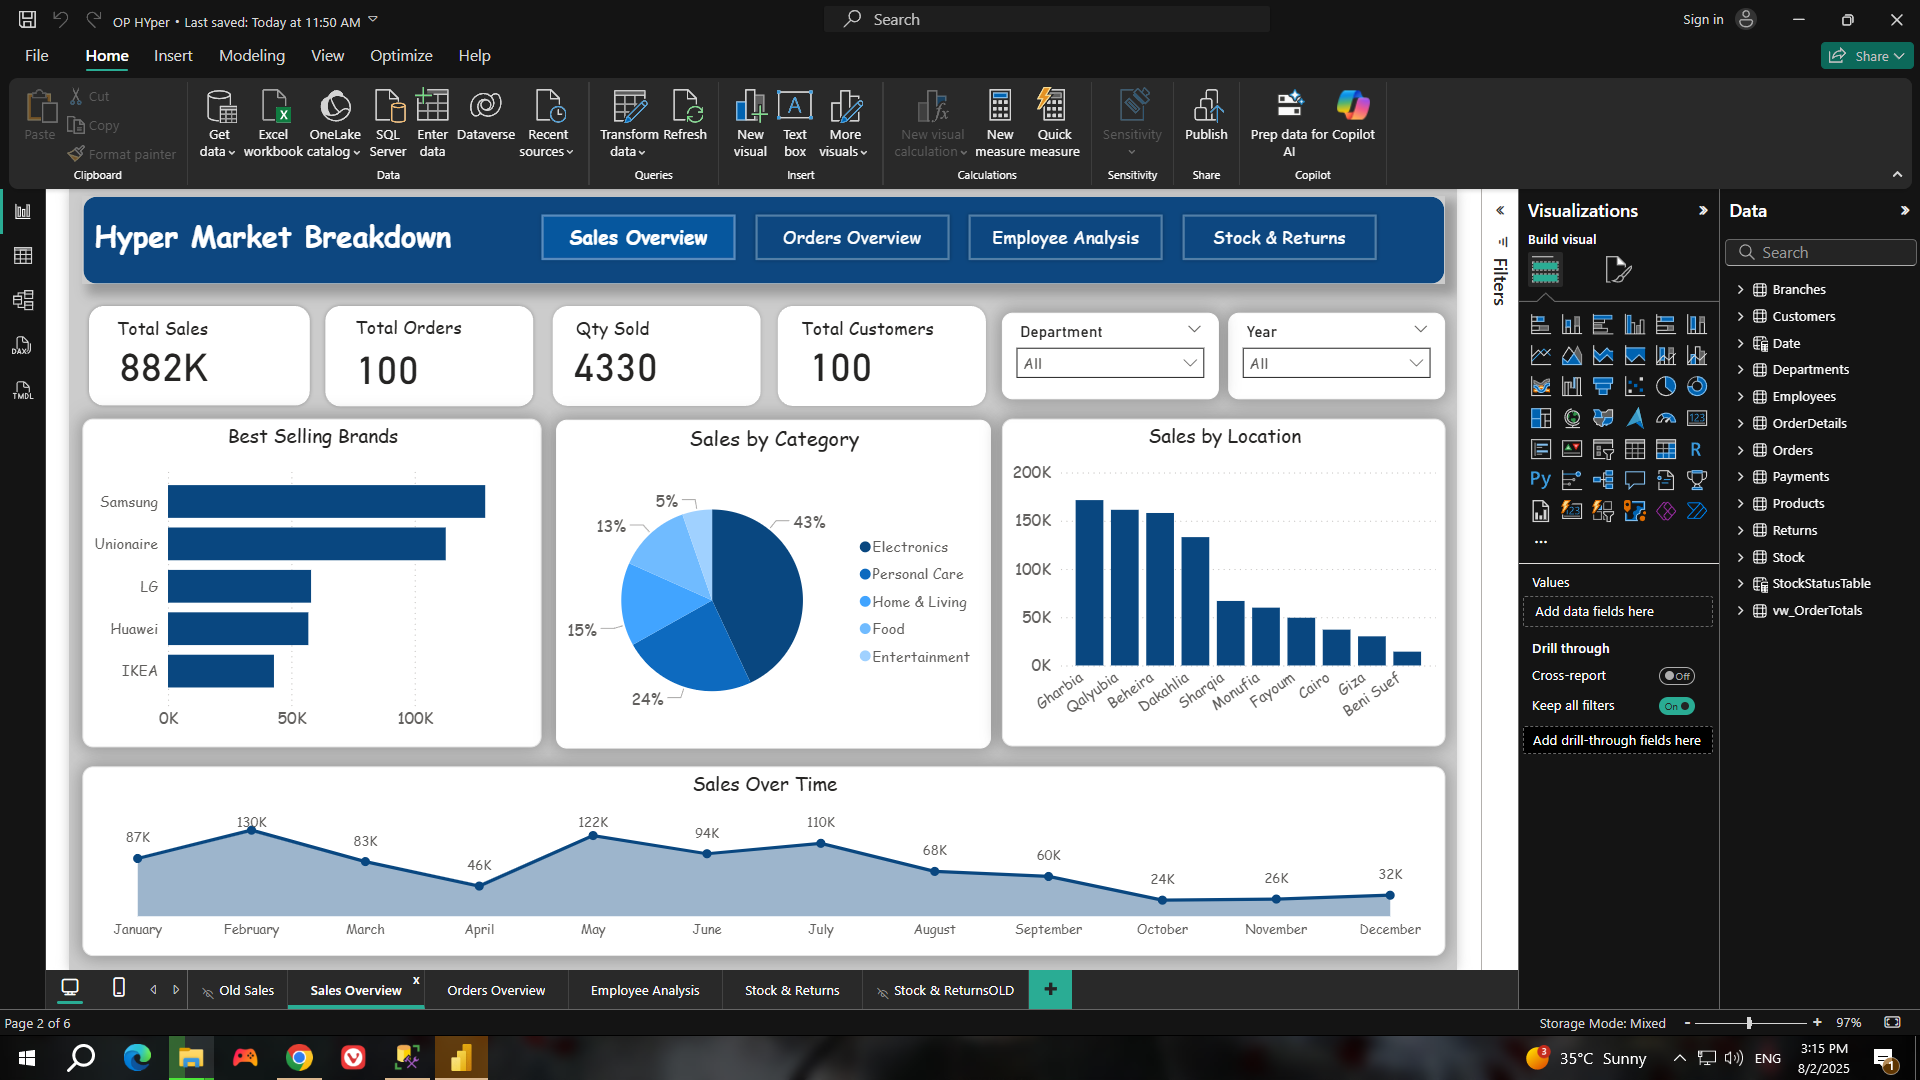

The page's visual inventory and layout, read from the dashboard file:
{"tool":"powerbi","page":{"name":"Sales Overview","canvas":[1280,720],"ordinal":1},"visuals":[{"type":"shape","box":[12.7,5.8,1256.8,82.1],"z":0},{"type":"shape","box":[232.3,103.5,200,100.7],"z":0,"group":"g1"},{"type":"shape","box":[441.7,103.7,200,100.3],"z":0,"group":"g3"},{"type":"shape","box":[649.3,103.7,200,100.3],"z":0,"group":"g4"},{"type":"shape","box":[14.4,103.8,211.7,100],"z":0,"group":"g2"},{"type":"textbox","box":[18.5,18.5,356.7,95.6],"z":1000},{"type":"card","title":"Total Sales ","fields":{"Values":["Sum(OrderDetails.Quantity)"]},"box":[457.1,136.6,92.5,48.3],"z":1000,"group":"g3"},{"type":"card","title":"Total Sales ","fields":{"Values":["Count(OrderDetails.Order_ID)"]},"box":[664.7,136.6,92.5,48.3],"z":1000,"group":"g4"},{"type":"card","title":"Total Sales ","fields":{"Values":["Count(OrderDetails.Order_ID)"]},"box":[249.8,139.4,86.4,46.9],"z":1000,"group":"g1"},{"type":"pageNavigator","box":[432,19.6,781.6,50.9],"z":2000,"group":"g5"},{"type":"textbox","box":[258.6,109.2,133.6,40.1],"z":2000,"group":"g1"},{"type":"textbox","box":[462.6,110.4,132.6,32.9],"z":2000,"group":"g3"},{"type":"textbox","box":[670.2,110.4,132.6,32.9],"z":2000,"group":"g4"},{"type":"card","title":"Total Sales ","fields":{"Values":["Employees.TotalSales"]},"box":[29.3,135.3,115.1,50.4],"z":2000,"group":"g2"},{"type":"group","id":"g1","title":"Group 1","box":[232.3,103.5,200,100.7],"z":3000},{"type":"group","id":"g2","title":"Group 2","box":[14.4,103.8,211.7,100],"z":4000},{"type":"textbox","box":[39.3,111.5,129.5,36.8],"z":4000,"group":"g2"},{"type":"group","id":"g3","title":"Group 1","box":[441.7,103.7,200,100.3],"z":5000},{"type":"barChart","title":"Best Selling Brands","fields":{"Y":["Employees.TotalSales"],"Category":["Products.Pro_Brand"]},"box":[12.3,211.8,423.5,303.2],"z":6000},{"type":"pieChart","title":"Sales by Category","fields":{"Y":["Employees.TotalSales"],"Category":["Products.Category"]},"box":[449.2,212.4,400.9,303.2],"z":7000},{"type":"lineChart","title":"Sales Over Time","fields":{"Y":["Employees.TotalSales"],"Category":["Date.Date.Variation.Date Hierarchy.Year","Date.Date.Variation.Date Hierarchy.Quarter","Date.Date.Variation.Date Hierarchy.Month"]},"box":[12.3,532.4,1257,174.7],"z":8000},{"type":"slicer","fields":{"Values":["Date.Year"]},"box":[1068.6,114,200.4,80.2],"z":9000},{"type":"clusteredColumnChart","title":"Sales by Location","fields":{"Y":["Employees.TotalSales"],"Category":["Branches.Branch_Location"]},"box":[860.3,211.4,409.1,302.2],"z":10000},{"type":"slicer","fields":{"Values":["Departments.Dept_Name"]},"box":[860,114,200.4,80.2],"z":11000},{"type":"group","id":"g4","title":"Group 1","box":[649.3,103.7,200,100.3],"z":12000},{"type":"group","id":"g5","title":"Group 3","box":[432,19.6,781.6,50.9],"z":13000}]}

Visuals, with their boxes on the page's 1280x720 design canvas (x1, y1, x2, y2). These are canvas units, not pixel positions in the 1920x1080 screenshot, which may show the page scaled, cropped or inside an application window:
shape: <region>13, 6, 1270, 88</region>
shape: <region>232, 104, 432, 204</region>
shape: <region>442, 104, 642, 204</region>
shape: <region>649, 104, 849, 204</region>
shape: <region>14, 104, 226, 204</region>
textbox: <region>18, 18, 375, 114</region>
"Total Sales " card: <region>457, 137, 550, 185</region>
"Total Sales " card: <region>665, 137, 757, 185</region>
"Total Sales " card: <region>250, 139, 336, 186</region>
pageNavigator: <region>432, 20, 1214, 70</region>
textbox: <region>259, 109, 392, 149</region>
textbox: <region>463, 110, 595, 143</region>
textbox: <region>670, 110, 803, 143</region>
"Total Sales " card: <region>29, 135, 144, 186</region>
"Group 1" group: <region>232, 104, 432, 204</region>
"Group 2" group: <region>14, 104, 226, 204</region>
textbox: <region>39, 112, 169, 148</region>
"Group 1" group: <region>442, 104, 642, 204</region>
"Best Selling Brands" barChart: <region>12, 212, 436, 515</region>
"Sales by Category" pieChart: <region>449, 212, 850, 516</region>
"Sales Over Time" lineChart: <region>12, 532, 1269, 707</region>
slicer - Date.Year: <region>1069, 114, 1269, 194</region>
"Sales by Location" clusteredColumnChart: <region>860, 211, 1269, 514</region>
slicer - Departments.Dept_Name: <region>860, 114, 1060, 194</region>
"Group 1" group: <region>649, 104, 849, 204</region>
"Group 3" group: <region>432, 20, 1214, 70</region>
